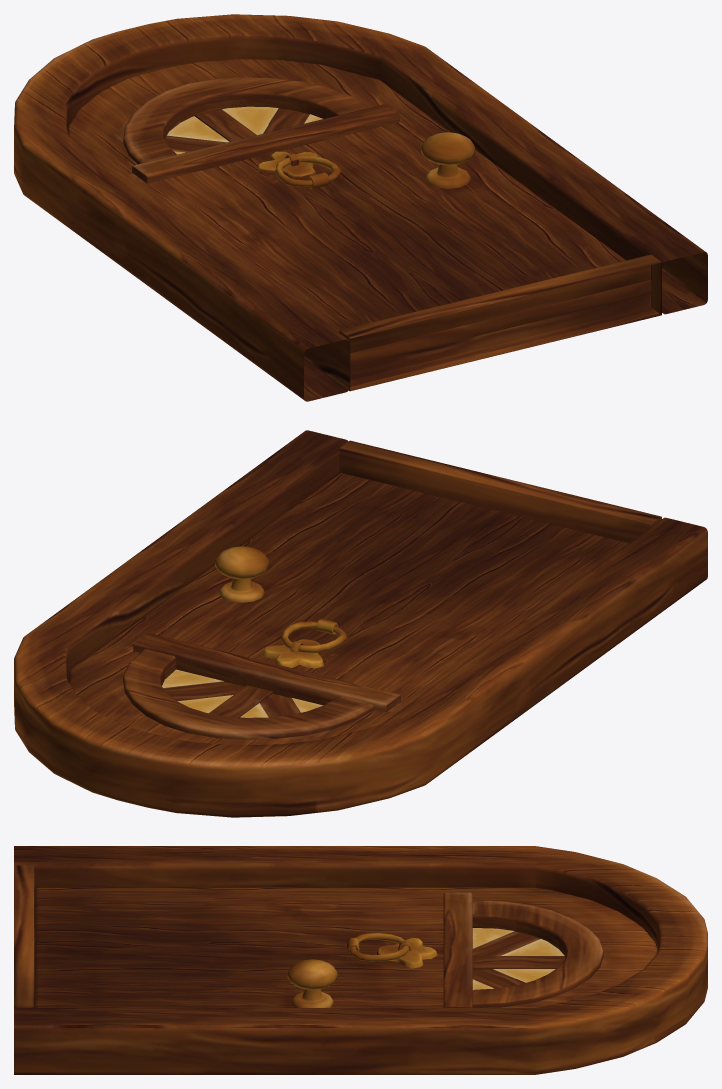
File: Puerta Principal Fin.FBX
3 views of the same model, one above another, from view 1: azimuth 30°, elevation 25°; view 2: azimuth 150°, elevation 25°; view 3: azimuth 270°, elevation 25° (orthographic). The views are drawn at different scales.
Visible parts, largest first — view 1: Puerta; view 2: Puerta; view 3: Puerta.
Boxes of the visible parts, x1=… form: Puerta: x1=14, y1=14, x2=707, y2=401; Puerta: x1=14, y1=430, x2=707, y2=817; Puerta: x1=14, y1=846, x2=707, y2=1074.
Size of the model in its own units: 48.92 by 12.56 by 78.54.
1 material, 1 textured.
